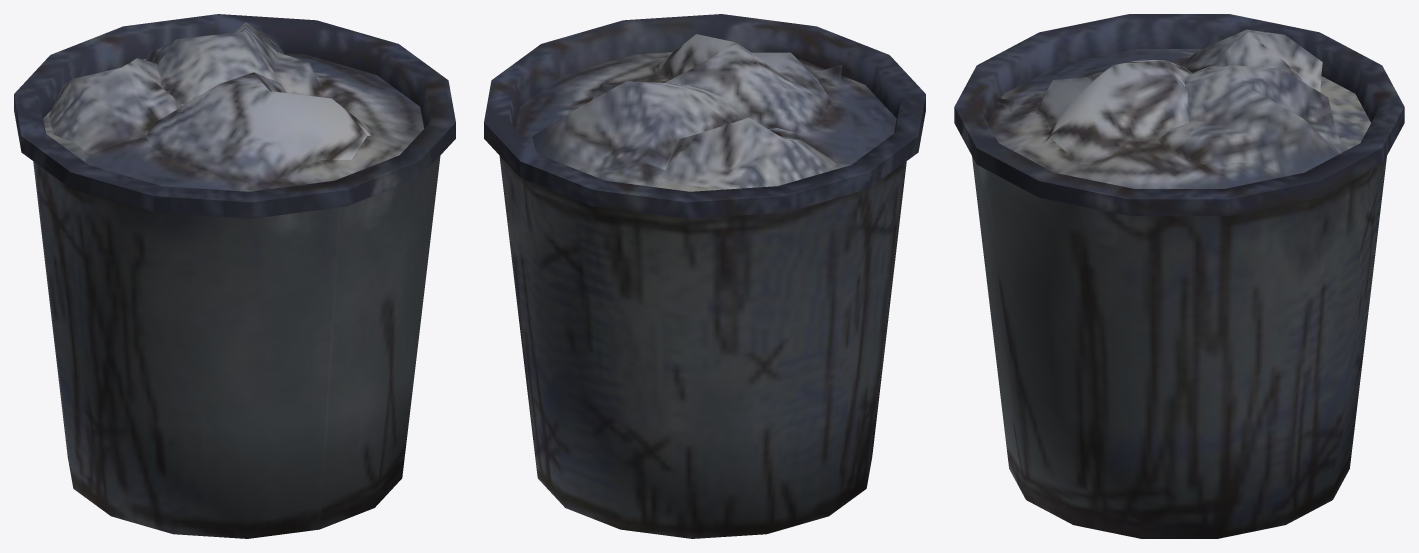
The model's file is musor_vedro.fbx.
3 views of the same model, side by side, from view 1: azimuth 30°, elevation 25°; view 2: azimuth 150°, elevation 25°; view 3: azimuth 270°, elevation 25° (orthographic).
Parts seen in each view (by area): view 1: Window.007; view 2: Window.007; view 3: Window.007.
Part boxes in pixels (box(x1,y1,x2,y2)): Window.007: box(14, 14, 455, 538); Window.007: box(484, 14, 925, 538); Window.007: box(954, 14, 1404, 538).
Size of the model in its own units: 40.33 by 40.93 by 41.36.
